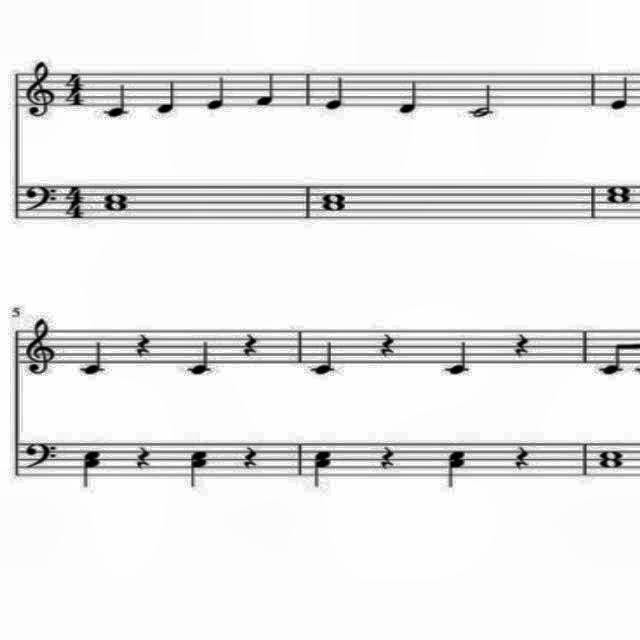Bass-clef: (22, 438, 62, 470), (21, 183, 59, 214)
Eighth-note: (592, 338, 628, 386)
Half-note: (468, 78, 500, 126), (606, 74, 634, 114)
Quarter-note: (437, 338, 475, 382), (183, 338, 220, 382), (148, 74, 182, 118), (102, 81, 136, 122), (308, 339, 340, 379), (324, 70, 351, 114), (79, 339, 109, 377), (204, 76, 232, 115), (252, 69, 278, 109), (396, 80, 424, 116)
Quarter-rest: (130, 330, 156, 366), (374, 328, 401, 362), (240, 328, 264, 364), (237, 442, 261, 472), (374, 443, 398, 472), (510, 446, 532, 474), (132, 444, 154, 472), (512, 331, 530, 362)
Treble-clef: (22, 58, 62, 122), (23, 314, 57, 382)
